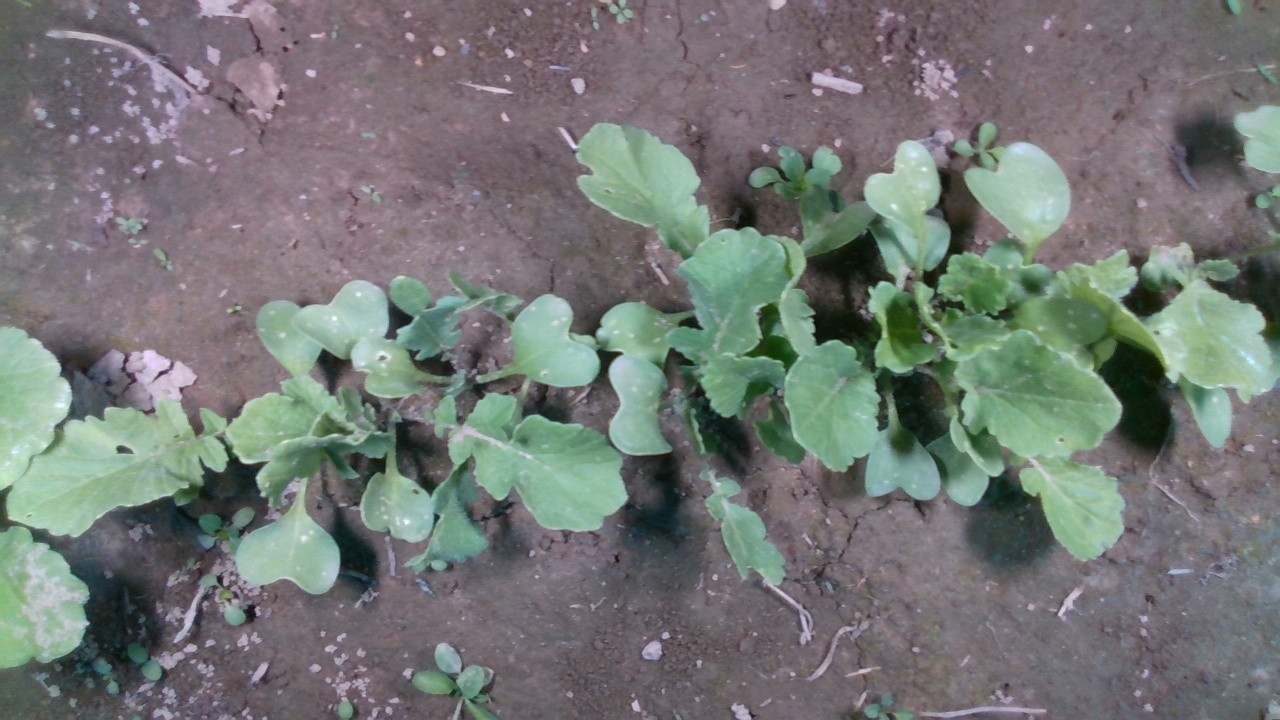weed: (126, 641, 162, 683), (151, 245, 175, 272), (358, 183, 383, 206), (223, 303, 244, 314)
